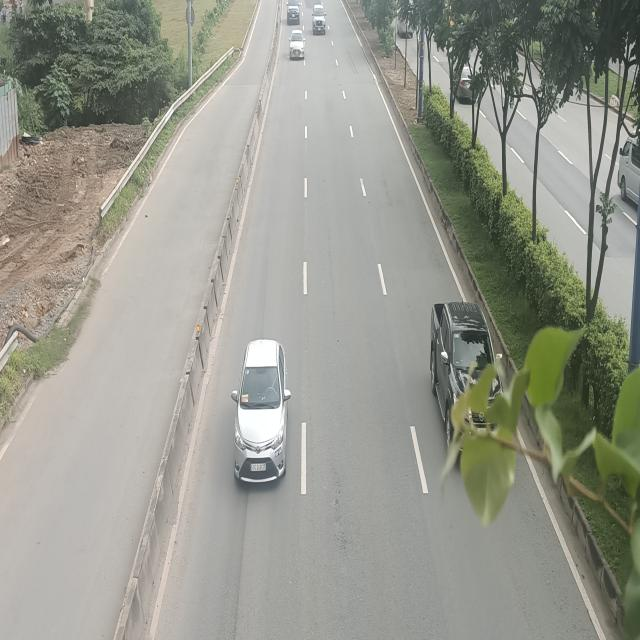car: (230, 342, 288, 486)
